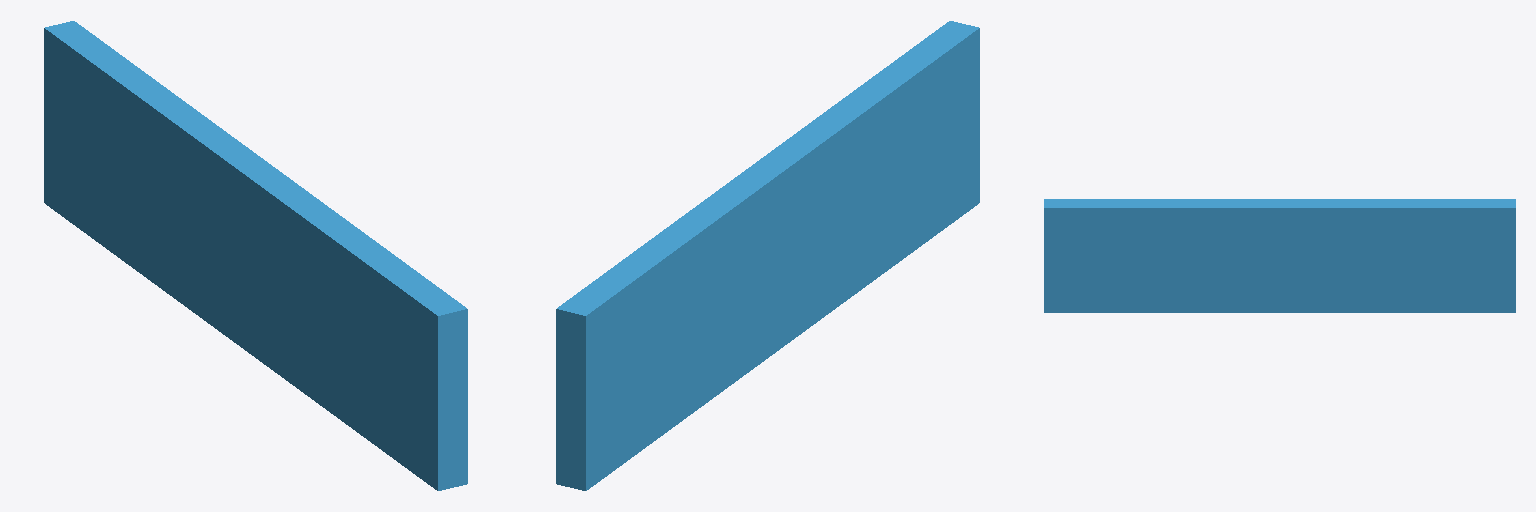
The robot description file, URDF, robot "box_2":
<?xml version="1.0" encoding="utf-8"?>    
    
    <robot name="box_2">
        <link name="box_2">    
            <fem>
                <origin rpy="0.0 0.0 0.0" xyz="0 0 0" />
                <density value="100" />
                <youngs value="10012"/>
                <poissons value="0.3"/>
                <damping value="0.0" /> 
                <attachDistance value="0.01"/>
                <tetmesh filename="../../../../Custom_mesh/physical_dvrk/multi_box_10kPa/box_2.tet"/>
                <scale value="1.0"/>
            </fem>
        </link>
        
        <link name="fix_frame">
            <visual>
                <origin xyz="-10.086 0.0 0.0"/>              
                <geometry>
                    <box size="0.005 0.114 0.028"/>
                </geometry>
            </visual>
            <collision>
                <origin xyz="-0.086 0.0 0.0"/>              
                <geometry>
                    <box size="0.005 0.114 0.028"/>
                </geometry>
            </collision>
            <inertial>
                <mass value="500000"/>
                <inertia ixx="0.05" ixy="0.0" ixz="0.0" iyy="0.05" iyz="0.0" izz="0.05"/>
            </inertial>
        </link>
        
        <joint name = "attach" type = "fixed">
            <origin xyz = "0.0 0.0 0.0" rpy = "0 0 0"/>
            <parent link = "box_2"/>
            <child link = "fix_frame"/>
        </joint>  
        
    </robot>
    

--- What the picture shows (computed from the rendered views, not written in the file) ---
The picture shows the robot from 3 angles, left to right: view 1: azimuth 30°, elevation 25°; view 2: azimuth 150°, elevation 25°; view 3: azimuth 270°, elevation 25°; orthographic projection.
Robot: box_2 — 2 links, 1 joints (1 fixed); root link box_2; default pose: all joints at 0.
Visible links, largest first — view 1: fix_frame; view 2: fix_frame; view 3: fix_frame.
Link boxes in pixels (x1,y1,x2,y2): fix_frame: (44,21,467,490); fix_frame: (556,21,979,490); fix_frame: (1044,199,1515,312).
Size in the robot's own frame: 0.005 by 0.114 by 0.028 metres.
Geometry: primitives only (box / cylinder / sphere), no mesh files.